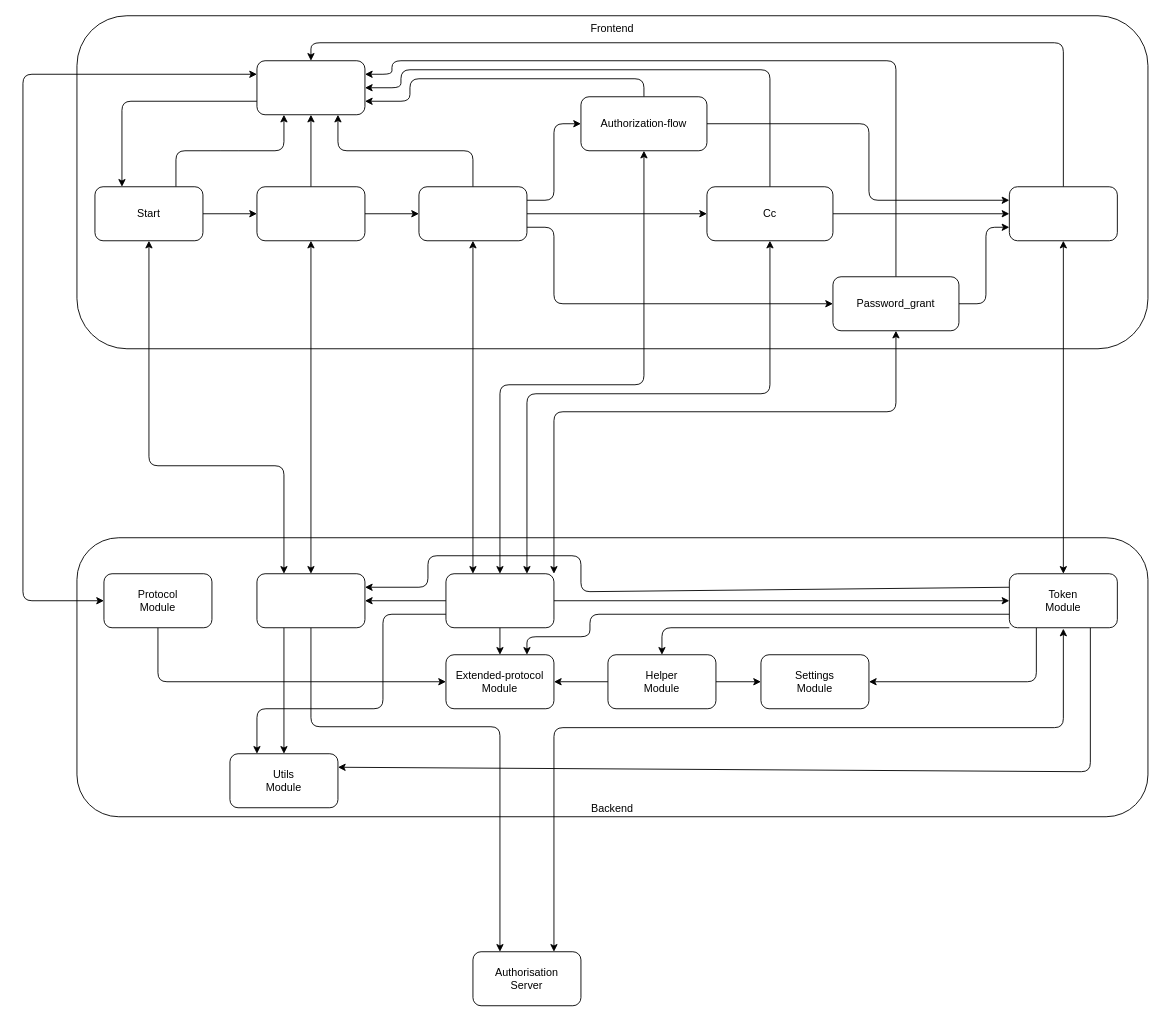
Image size: 1164x1022. Some labels were removed from this diagram. The centre of each missing label's shape, as x and y in pixels:
decode: (1062,213)
Discovery: (310,213)
Discovery Module: (310,600)
Flows: (472,213)
Flows Module: (499,600)
Protocol: (310,87)
